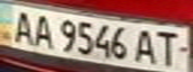4: (90, 21, 115, 59)
5: (75, 19, 96, 56)
6: (109, 24, 133, 62)
9: (54, 17, 78, 54)
A: (6, 8, 39, 45), (130, 26, 160, 65), (30, 12, 57, 48)
T: (151, 28, 184, 67)
